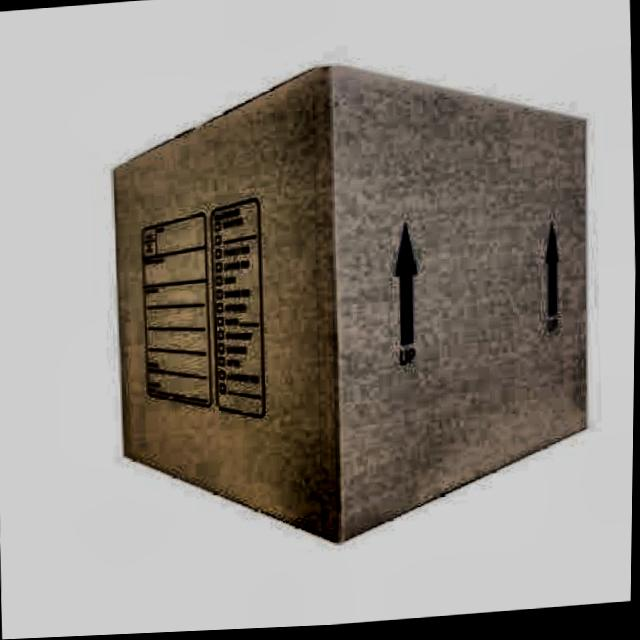Cardbox: (85, 34, 604, 565)
